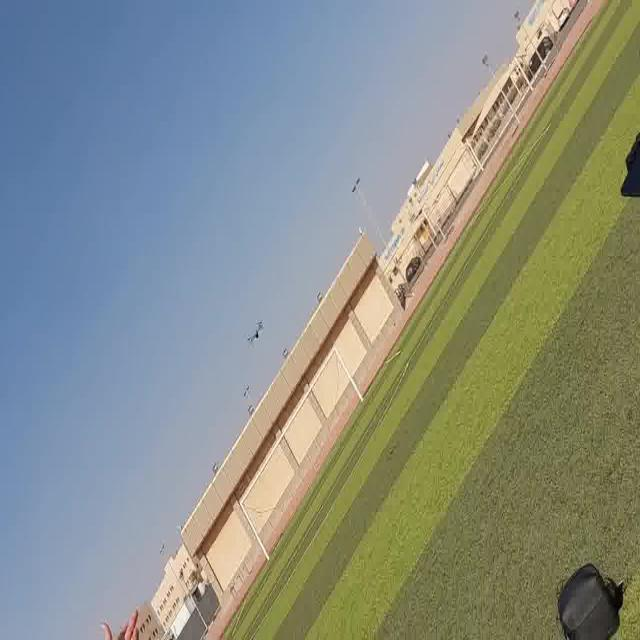drone: (244, 308, 266, 356)
